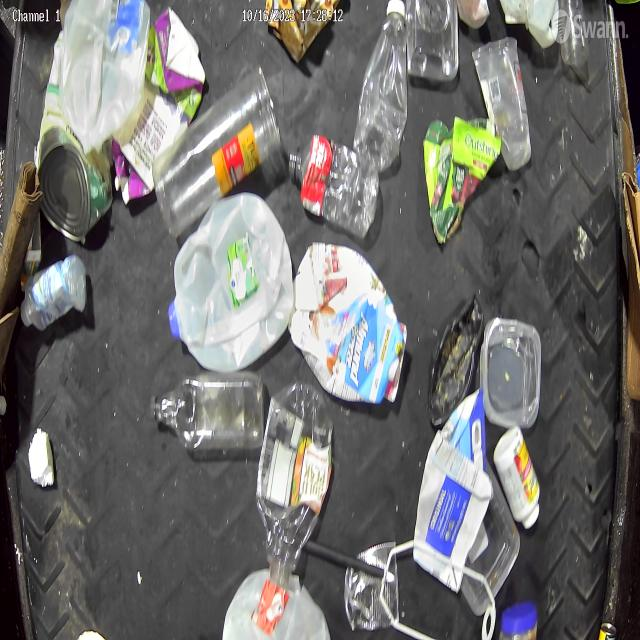can: (36, 130, 114, 262), (19, 250, 92, 344)
milk_jug: (163, 181, 296, 368), (59, 0, 150, 153)
plastic_bottle: (256, 369, 332, 607), (283, 128, 378, 245), (150, 366, 264, 451), (360, 0, 411, 186)
